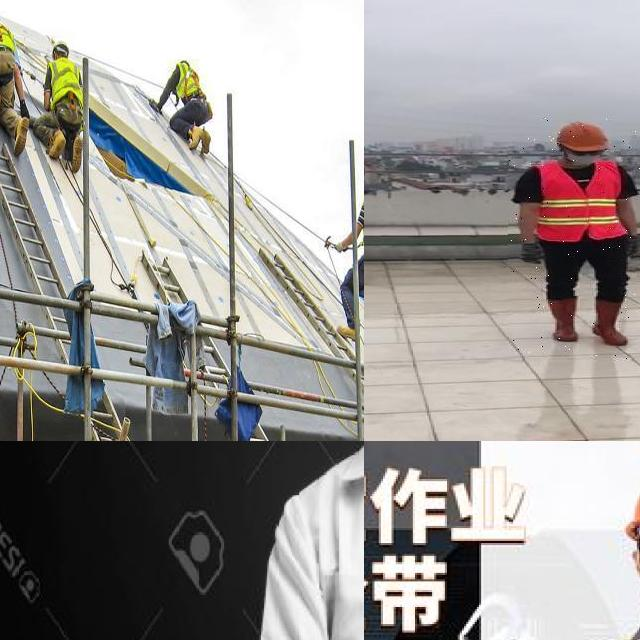boots: (591, 298, 630, 347), (544, 297, 584, 344), (12, 117, 29, 158), (46, 129, 66, 161), (72, 138, 86, 172), (339, 321, 360, 343), (200, 131, 215, 155), (188, 129, 203, 151)
head_helmet: (548, 120, 613, 156), (50, 36, 73, 58)
person: (508, 117, 640, 359), (249, 441, 364, 640), (144, 36, 225, 164), (320, 157, 364, 380), (36, 26, 96, 176), (0, 15, 33, 174)
vest: (532, 164, 630, 242), (45, 61, 87, 110), (169, 66, 206, 98), (0, 27, 19, 57)
